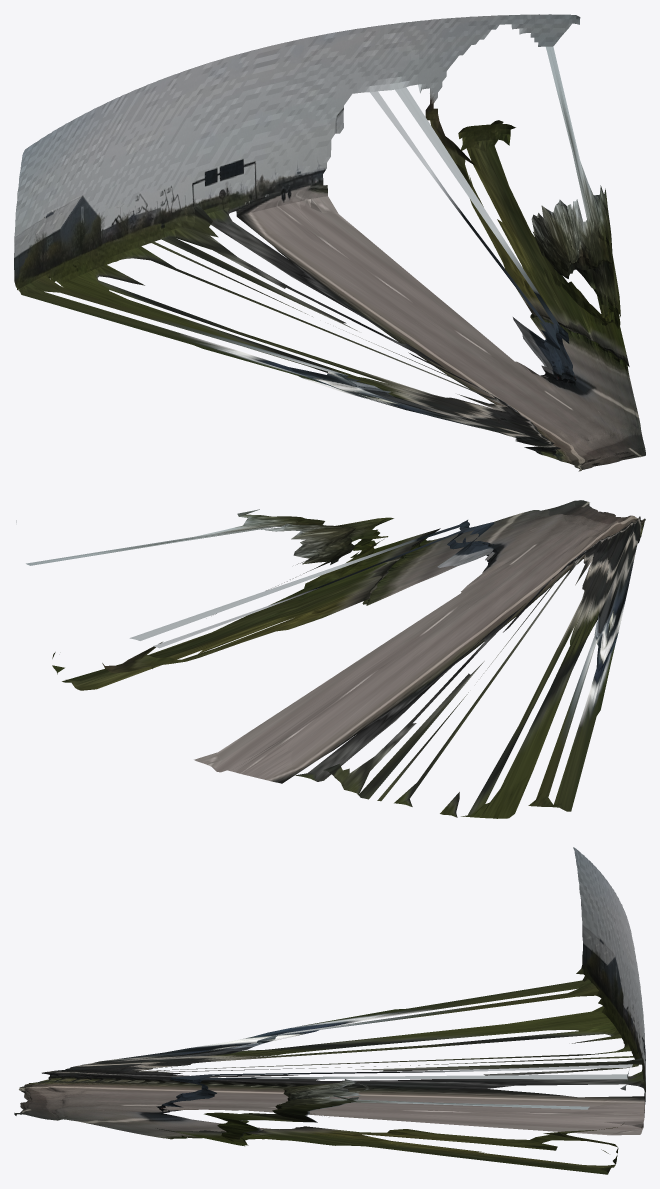
3 views of the same model, one above another, from view 1: azimuth 30°, elevation 25°; view 2: azimuth 150°, elevation 25°; view 3: azimuth 270°, elevation 25° (orthographic). The views are drawn at different scales.
Parts seen in each view (by area): view 1: defaultobject; view 2: defaultobject; view 3: defaultobject.
Part boxes in pixels (x1,y1,x2,y2): defaultobject: [14, 14, 645, 471]; defaultobject: [16, 500, 645, 818]; defaultobject: [14, 847, 645, 1174].
Bounding box in the file's own units: 40.86 × 12.33 × 44.77.
1 material, 1 textured.
